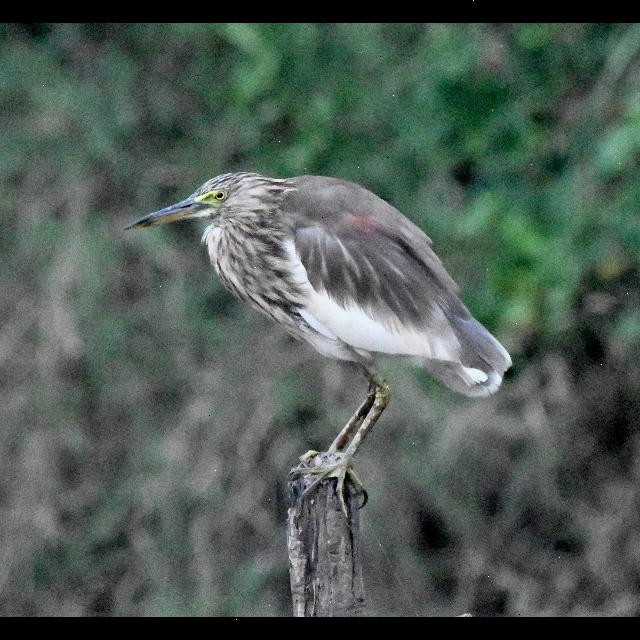heron: (116, 158, 518, 498)
